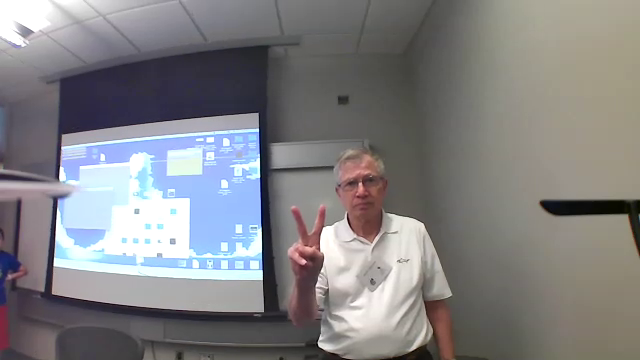peace: (287, 198, 334, 273)
